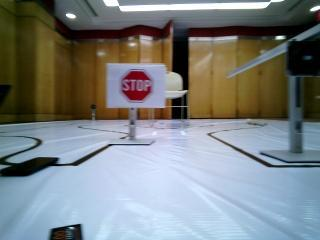stop: (110, 63, 166, 104)
